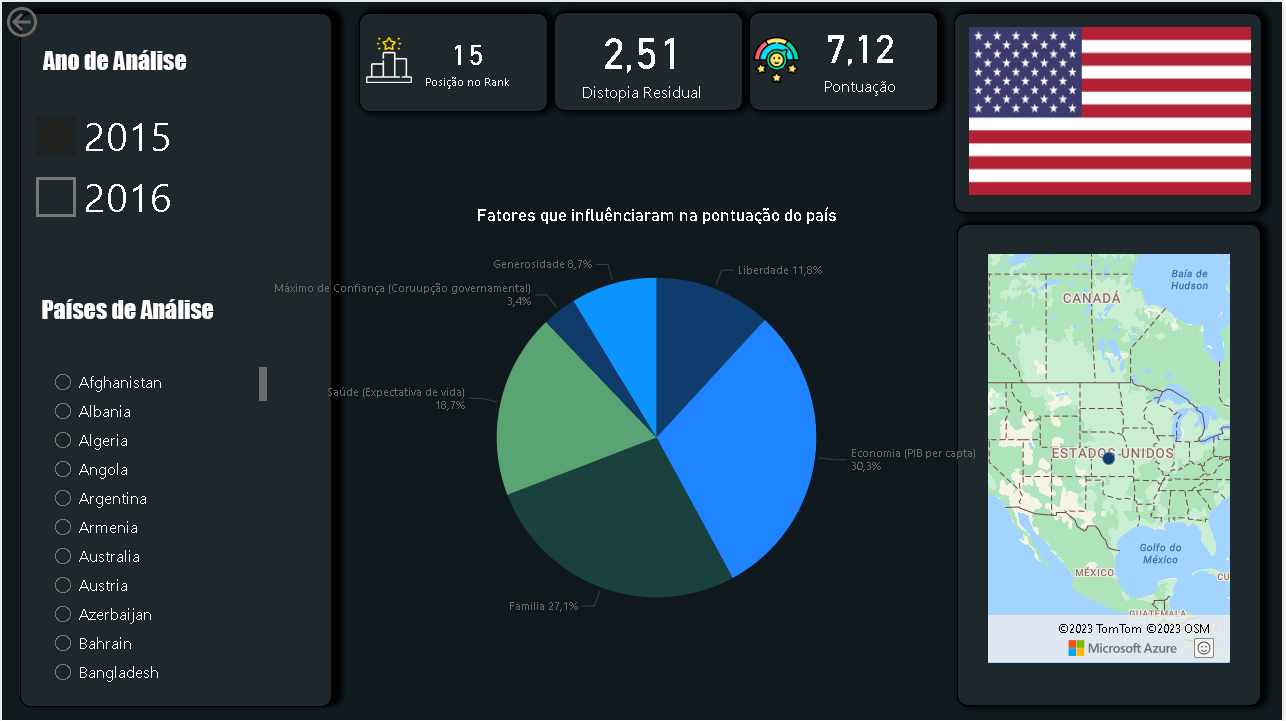

Layout of this report page (visuals, bound fields, positions):
{"tool":"powerbi","page":{"name":"Página 2","canvas":[1280,720],"ordinal":1},"visuals":[{"type":"slicer","fields":{"Values":["Country (Felicidade 2015).País"]},"box":[40,360,230,326.2],"z":0},{"type":"simpleImageEBC4593F96F1425FB3D84C5BF02B5075","fields":{"imageURL":["Country (Felicidade 2015).Link"]},"box":[961.5,20,292.3,177.7],"z":1000},{"type":"card","fields":{"Values":["Sum(Country (Felicidade 2015).Classificação de Felicidade)"]},"box":[389,13,152,88],"z":2000},{"type":"slicer","fields":{"Values":["Country (Felicidade 2015).Year"]},"box":[21.2,97.5,157.5,198.8],"z":3000},{"type":"donutChart","title":"Fatores que influênciaram na pontuação do país","fields":{"Y":["Max(Country (Felicidade 2015).Liberdade)","Max(Country (Felicidade 2015).Economia (PIB per capta))","Max(Country (Felicidade 2015).Familia)","Max(Country (Felicidade 2015).Saúde (Expectativa de vida))","Max(Country (Felicidade 2015).Confiança (Coruupção governamental))","Max(Country (Felicidade 2015).Generosidade)"]},"box":[257.5,202.5,793.8,446.2],"z":4000},{"type":"card","fields":{"Values":["Sum(Country (Felicidade 2015).Distopia Residual)"]},"box":[553.8,7.5,171.2,98.8],"z":5000},{"type":"azureMap","fields":{"Category":["Country (Felicidade 2015).País"]},"box":[981.1,246.7,252.2,418.9],"z":6000},{"type":"actionButton","box":[0,0,100,40],"z":7000},{"type":"card","fields":{"Values":["Sum(Country (Felicidade 2015).Pontuação de Felicidade)"]},"box":[770,0,175,107],"z":8000}]}

Visuals, with their boxes in screenshot pixels (x1, y1, x2, y2), scaled from the page's 1280x720 canvas onto the 1286x721 screenshot:
slicer - Country (Felicidade 2015).País: [x1=40, y1=360, x2=271, y2=687]
simpleImageEBC4593F96F1425FB3D84C5BF02B5075 - Country (Felicidade 2015).Link: [x1=966, y1=20, x2=1260, y2=198]
card - Sum(Country (Felicidade 2015).Classificação de Felicidade): [x1=391, y1=13, x2=544, y2=101]
slicer - Country (Felicidade 2015).Year: [x1=21, y1=98, x2=180, y2=297]
"Fatores que influênciaram na pontuação do país" donutChart: [x1=259, y1=203, x2=1056, y2=650]
card - Sum(Country (Felicidade 2015).Distopia Residual): [x1=556, y1=8, x2=728, y2=106]
azureMap - Country (Felicidade 2015).País: [x1=986, y1=247, x2=1239, y2=667]
actionButton: [x1=0, y1=0, x2=100, y2=40]
card - Sum(Country (Felicidade 2015).Pontuação de Felicidade): [x1=774, y1=0, x2=949, y2=107]
